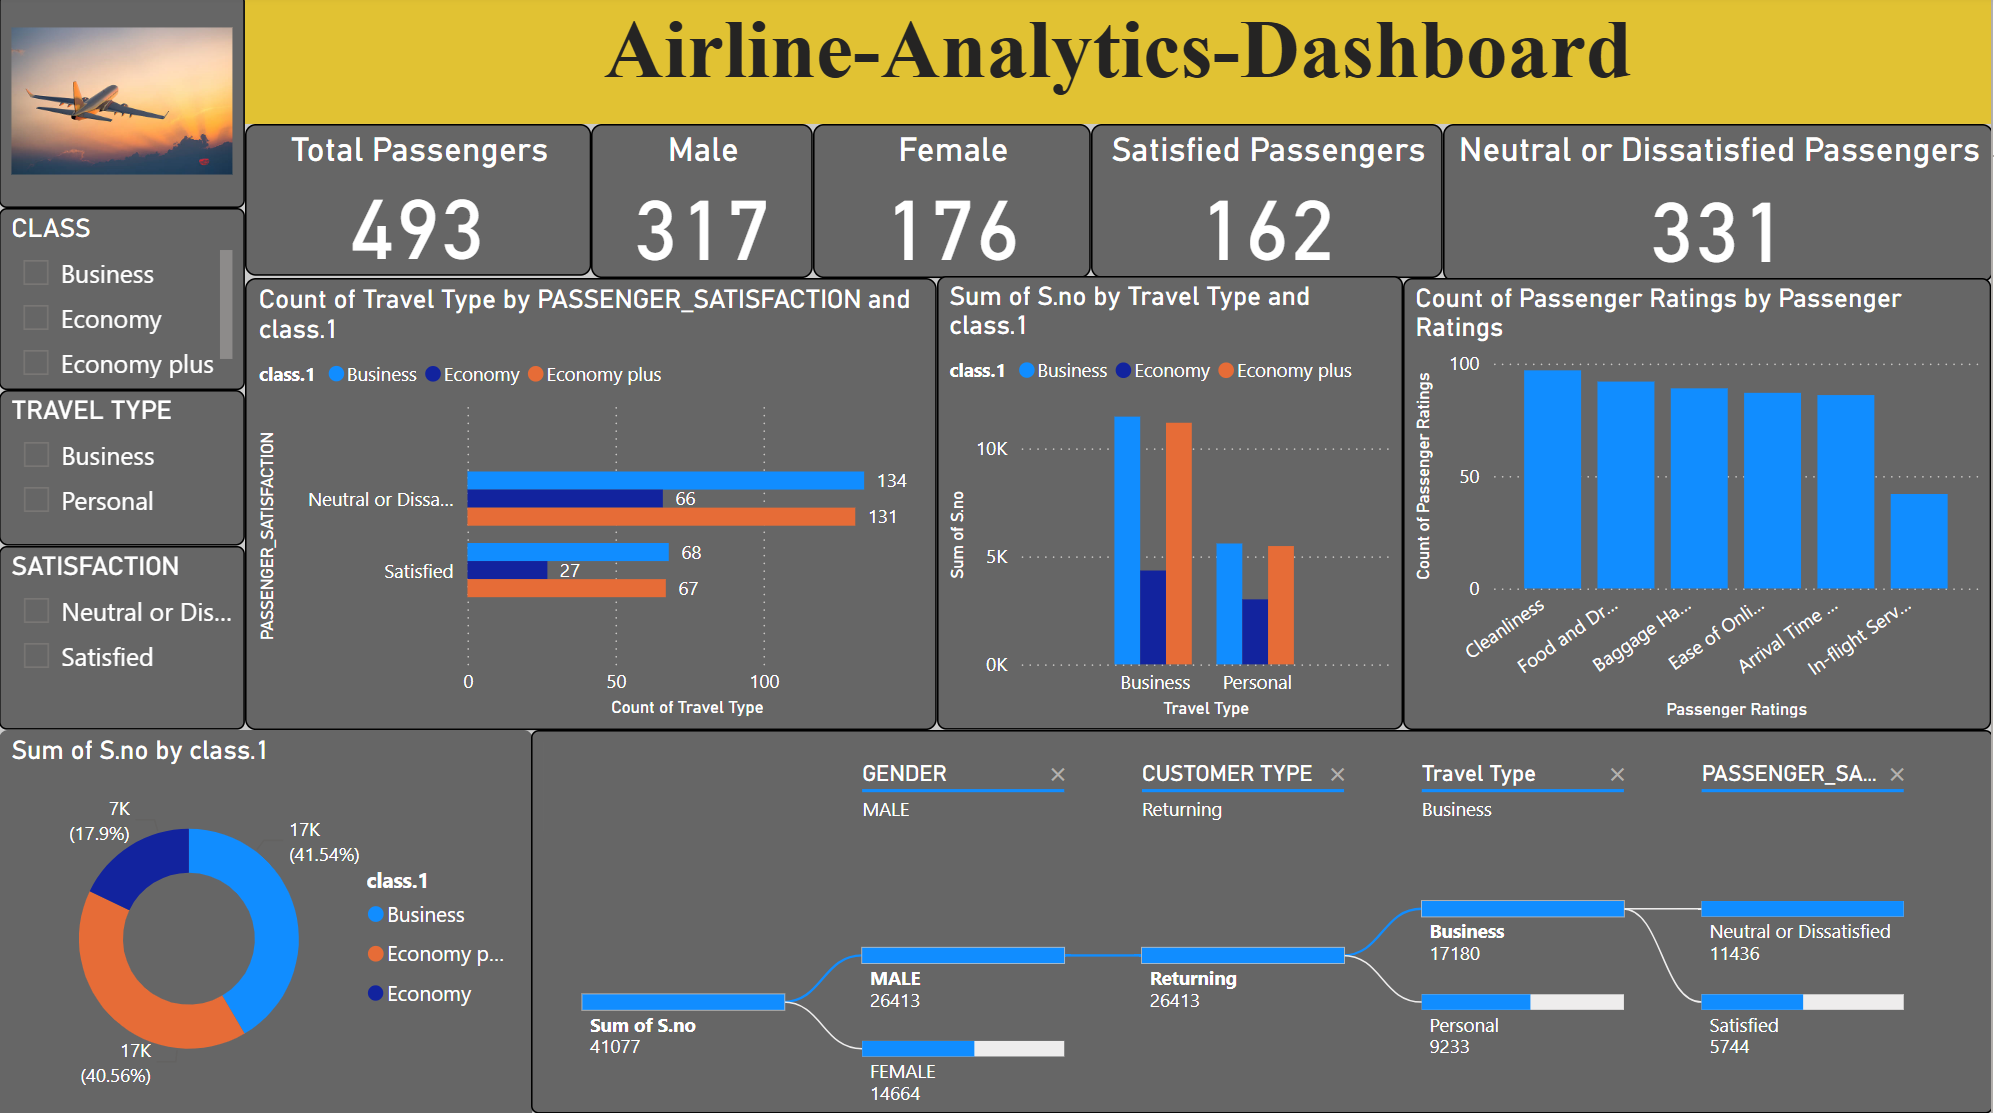

The page's visual inventory and layout, read from the dashboard file:
{"tool":"powerbi","page":{"name":"Page 1","canvas":[1280,720],"ordinal":0},"visuals":[{"type":"card","title":"Total Passengers","fields":{"Values":["CountNonNull(Sheet1.S.no)"]},"box":[158.1,83.5,222.3,97.7],"z":0},{"type":"card","title":"Male","fields":{"Values":["CountNonNull(Sheet1.GENDER)"]},"box":[380.4,83.5,142.7,99],"z":1000},{"type":"card","title":"Female","fields":{"Values":["CountNonNull(Sheet1.GENDER)"]},"box":[523.1,83.5,178.6,99],"z":2000},{"type":"card","title":"Satisfied Passengers","fields":{"Values":["CountNonNull(Sheet1.PASSENGER_SATISFACTION)"]},"box":[701.7,83.5,226.2,99],"z":3000},{"type":"card","title":"Neutral or Dissatisfied Passengers","fields":{"Values":["CountNonNull(Sheet1.PASSENGER_SATISFACTION)"]},"box":[927.9,83.5,353.4,101.5],"z":4000},{"type":"clusteredBarChart","fields":{"Category":["Sheet1.PASSENGER_SATISFACTION"],"Series":["Sheet1.class.1"],"Y":["CountNonNull(Sheet1.Travel Type)"]},"box":[158.1,182.5,444.7,290.4],"z":5000},{"type":"clusteredColumnChart","fields":{"Y":["Sum(Sheet1.S.no)"],"Category":["Sheet1.Travel Type"],"Series":["Sheet1.class.1"]},"box":[602.7,181.2,299.4,291.7],"z":6000},{"type":"donutChart","fields":{"Y":["Sum(Sheet1.S.no)"],"Category":["Sheet1.class.1"]},"box":[0,472.9,343.1,249.3],"z":7000},{"type":"slicer","title":"CLASS","fields":{"Values":["Sheet1.class.1"]},"box":[0,137.5,158.1,116.9],"z":8000},{"type":"slicer","title":"TRAVEL TYPE","fields":{"Values":["Sheet1.Travel Type"]},"box":[0,254.5,158.1,100.2],"z":9000},{"type":"slicer","title":"SATISFACTION","fields":{"Values":["Sheet1.PASSENGER_SATISFACTION"]},"box":[0,354.7,158.1,118.2],"z":10000},{"type":"decompositionTreeVisual","fields":{"Analyze":["Sum(Sheet1.S.no)"],"ExplainBy":["Sheet1.GENDER","Sheet1.CUSTOMER TYPE","Sheet1.Travel Type","Sheet1.PASSENGER_SATISFACTION"]},"box":[341.8,472.9,939.4,246.7],"z":11000},{"type":"image","box":[0,0,158.1,137.5],"z":12000},{"type":"lineClusteredColumnComboChart","fields":{"Category":["Sheet1.Passenger Ratings"],"Y":["CountNonNull(Sheet1.Passenger Ratings)"]},"box":[902.2,182.5,377.8,290.4],"z":13000},{"type":"textbox","box":[158.1,0,1121.9,83.5],"z":14001}]}

Visuals, with their boxes in screenshot pixels (x1, y1, x2, y2), scaled from the page's 1280x720 canvas onto the 1994x1113 screenshot:
"Total Passengers" card: (246,129,593,280)
"Male" card: (593,129,815,282)
"Female" card: (815,129,1093,282)
"Satisfied Passengers" card: (1093,129,1445,282)
"Neutral or Dissatisfied Passengers" card: (1445,129,1993,286)
clusteredBarChart - Sheet1.PASSENGER_SATISFACTION x Sheet1.class.1: (246,282,939,731)
clusteredColumnChart - Sum(Sheet1.S.no) x Sheet1.Travel Type: (939,280,1405,731)
donutChart - Sum(Sheet1.S.no) x Sheet1.class.1: (0,731,534,1112)
"CLASS" slicer: (0,213,246,393)
"TRAVEL TYPE" slicer: (0,393,246,548)
"SATISFACTION" slicer: (0,548,246,731)
decompositionTreeVisual - Sum(Sheet1.S.no) x Sheet1.GENDER: (532,731,1993,1112)
image: (0,0,246,213)
lineClusteredColumnComboChart - Sheet1.Passenger Ratings x CountNonNull(Sheet1.Passenger Ratings): (1405,282,1993,731)
textbox: (246,0,1993,129)
